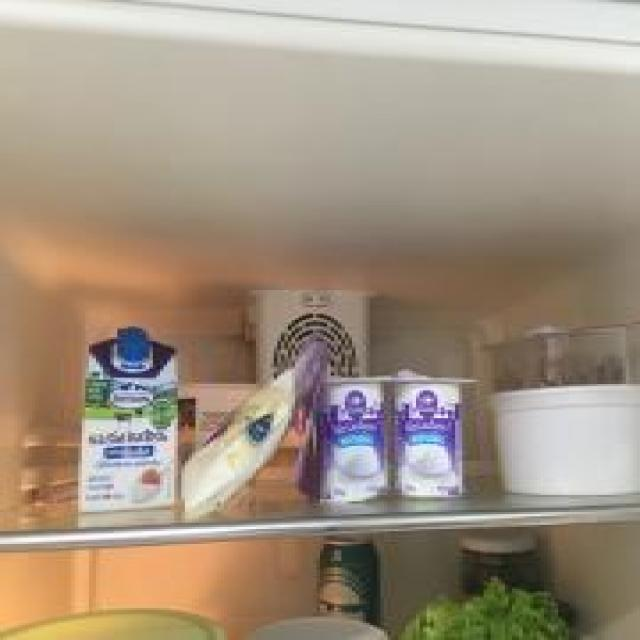grated_cheese: (181, 361, 313, 514)
heavy_cream: (84, 321, 176, 520)
yogurt: (393, 374, 464, 499), (323, 374, 388, 507)
